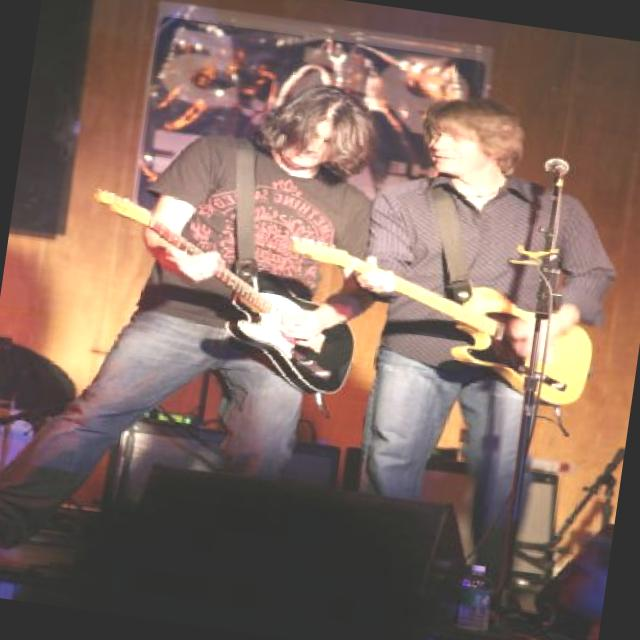Person: (0, 39, 418, 612), (306, 85, 640, 640)
